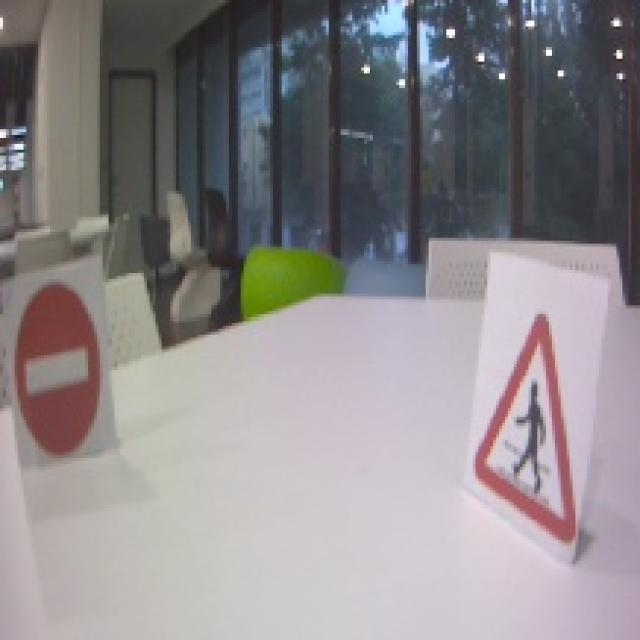DoNotEnterSign: (13, 280, 106, 457)
